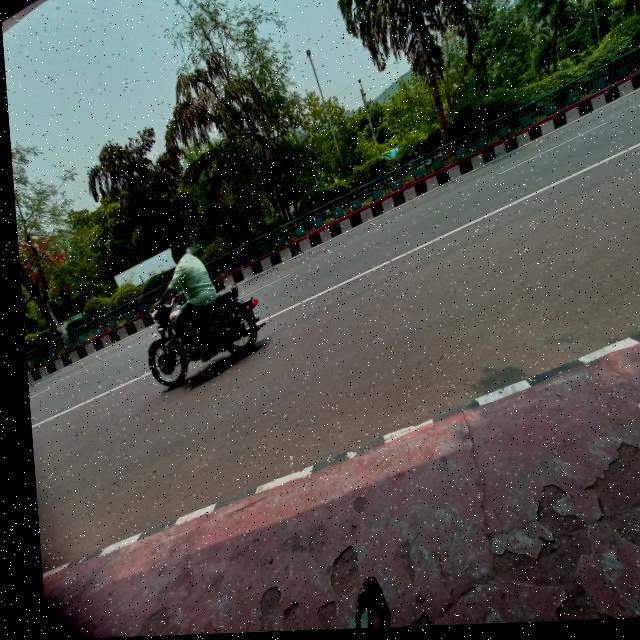bike: (126, 295, 258, 389)
